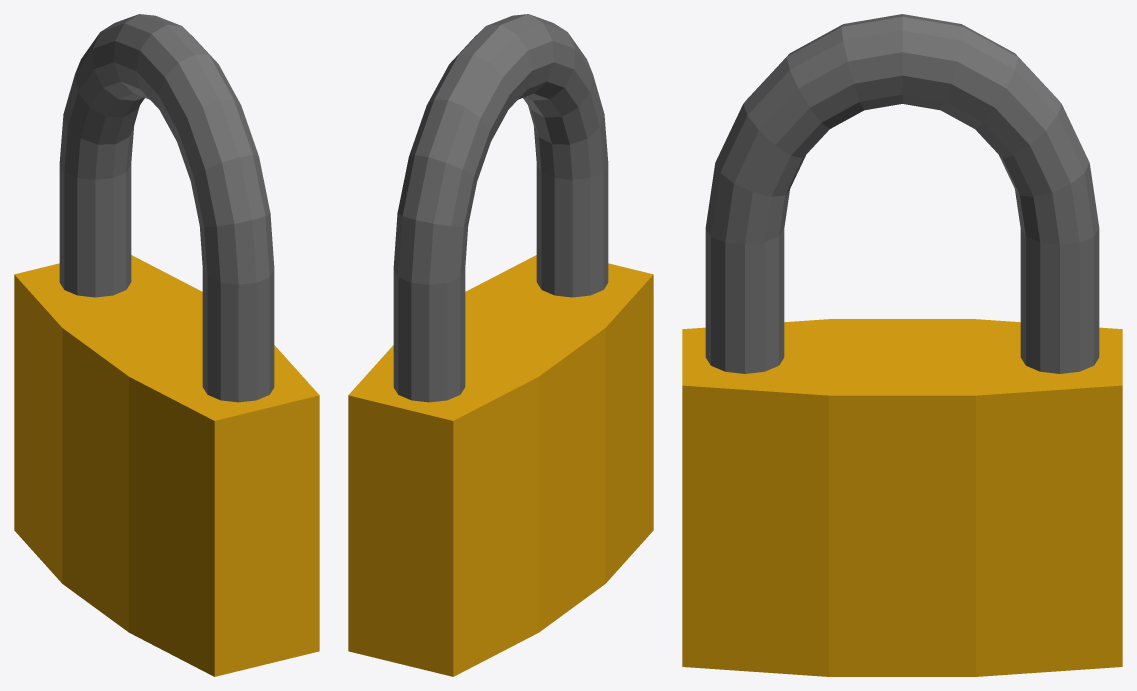
Rendered from lock.fbx.
The picture shows the model from 3 angles, left to right: view 1: azimuth 30°, elevation 25°; view 2: azimuth 150°, elevation 25°; view 3: azimuth 270°, elevation 25°; orthographic projection. The views are drawn at different scales.
Visible parts, largest first — view 1: Cube, Torus; view 2: Cube, Torus; view 3: Cube, Torus.
Part boxes in pixels (left/top/right/bottom): Cube: left=14, top=255, right=319, bottom=676; Torus: left=59, top=14, right=274, bottom=402; Cube: left=348, top=255, right=653, bottom=676; Torus: left=393, top=14, right=608, bottom=402; Cube: left=682, top=319, right=1122, bottom=676; Torus: left=705, top=14, right=1099, bottom=373.
Bounding box in the file's own units: 82.22 × 312 × 200.
